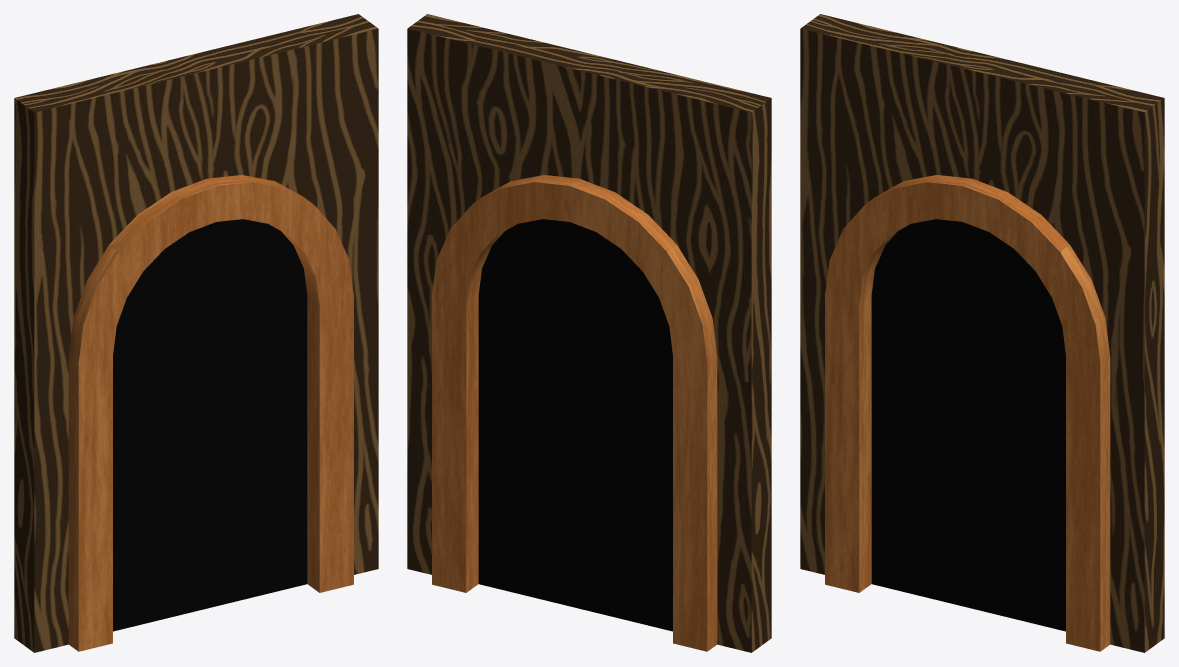
The model's file is MouseHole 1.FBX.
3 views of the same model, side by side, from view 1: azimuth 30°, elevation 25°; view 2: azimuth 150°, elevation 25°; view 3: azimuth 330°, elevation 25° (orthographic).
Parts seen in each view (by area): view 1: Tube001, Box001; view 2: Tube001, Box001; view 3: Tube001, Box001.
Boxes of the visible parts, x1=… form: Tube001: x1=14, y1=14, x2=378, y2=652; Box001: x1=113, y1=219, x2=307, y2=631; Tube001: x1=407, y1=14, x2=771, y2=652; Box001: x1=478, y1=219, x2=672, y2=631; Tube001: x1=800, y1=14, x2=1164, y2=652; Box001: x1=871, y1=219, x2=1065, y2=631.
Bounding box in the file's own units: 78.74 × 118 × 15.75.
2 materials, 2 textured.
